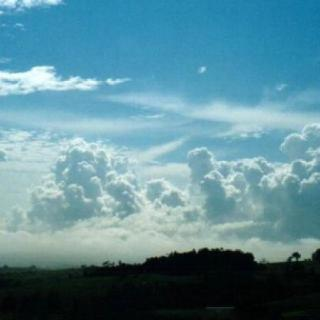Cirrus: (0, 0, 320, 246)
